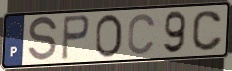9: (162, 10, 188, 56)
C: (191, 9, 225, 53), (126, 12, 157, 57)
O: (93, 13, 123, 60)
P: (59, 13, 92, 62)
S: (26, 14, 59, 64)
